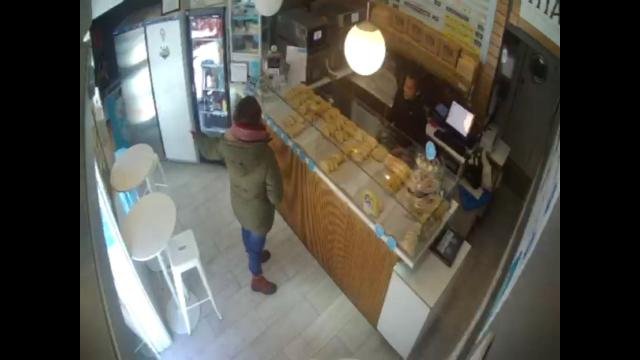cliente: (191, 96, 283, 294)
empleado: (380, 72, 428, 152)
